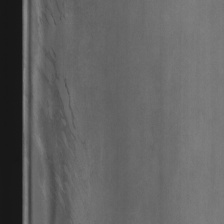water_spot: (32, 2, 83, 220)
